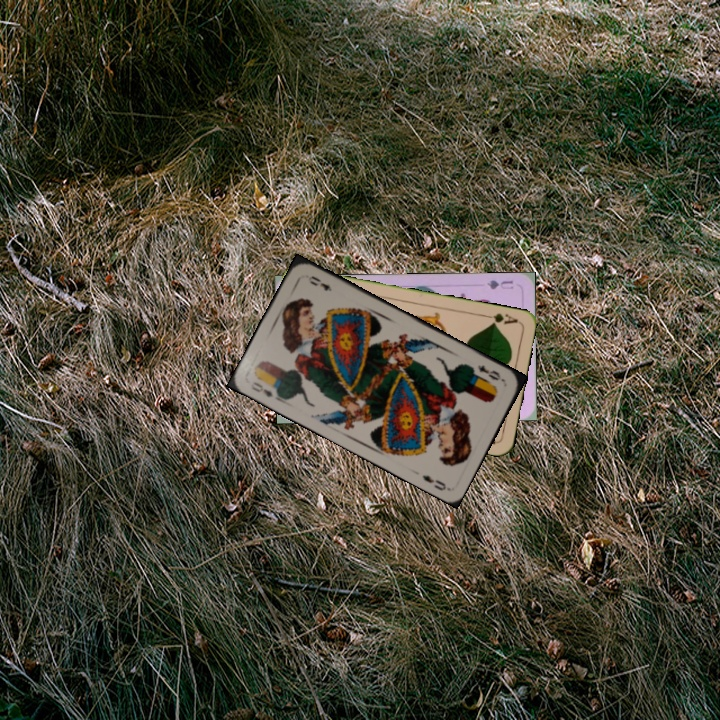EO: (246, 377, 284, 403), (474, 360, 506, 384)
GA: (480, 309, 520, 328)
GU: (483, 276, 516, 292)
